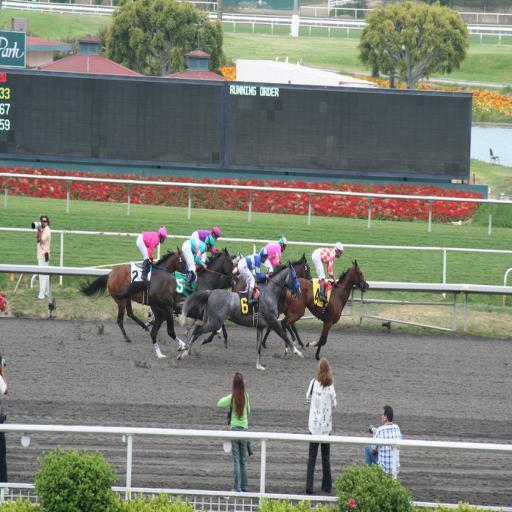horse: (76, 242, 372, 372)
